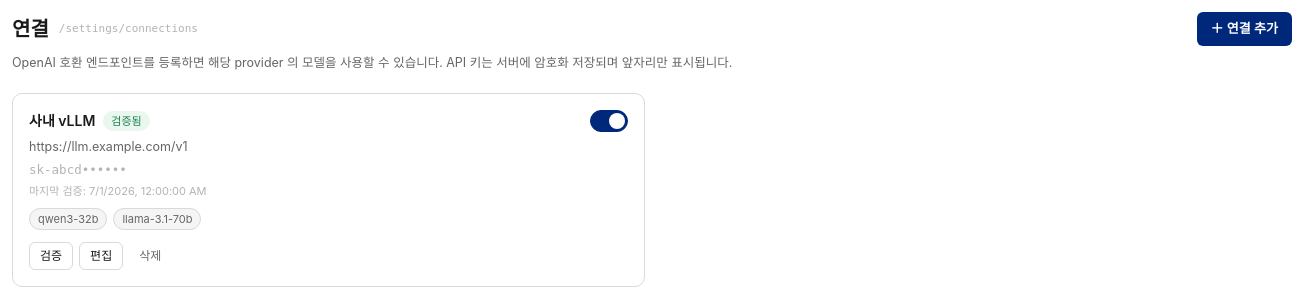
ConnectionsManager › (c-2) 검증 실패 시 검증 실패 뱃지로 갱신된다
Expected: the text with test id "connection-verify-badge-conn-1" reads "검증됨", [111, 114, 142, 128]
Click the button with aria-label "검증: 사내 vLLM" at coordinates (51, 256), box [29, 242, 73, 270]
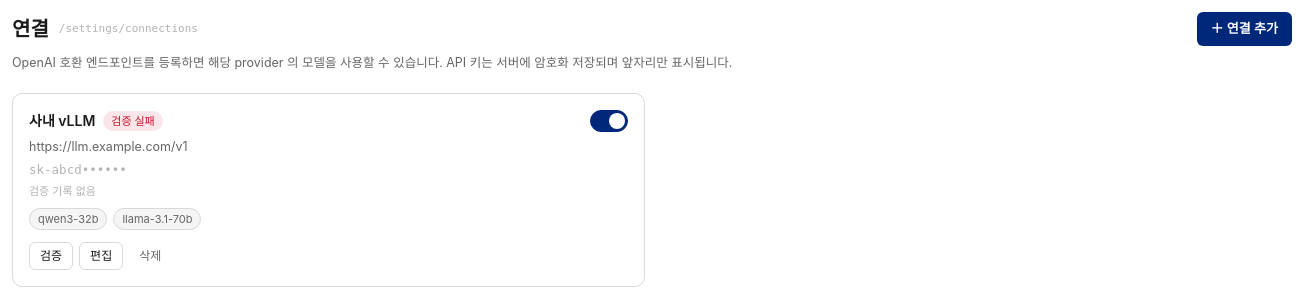
Now the text with test id "connection-verify-badge-conn-1" reads "검증 실패", box [111, 114, 155, 128]
